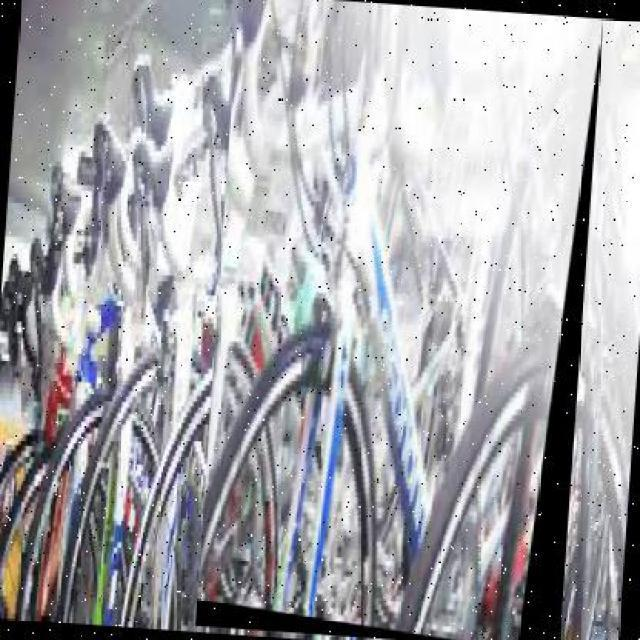bicycle: (194, 1, 605, 639)
